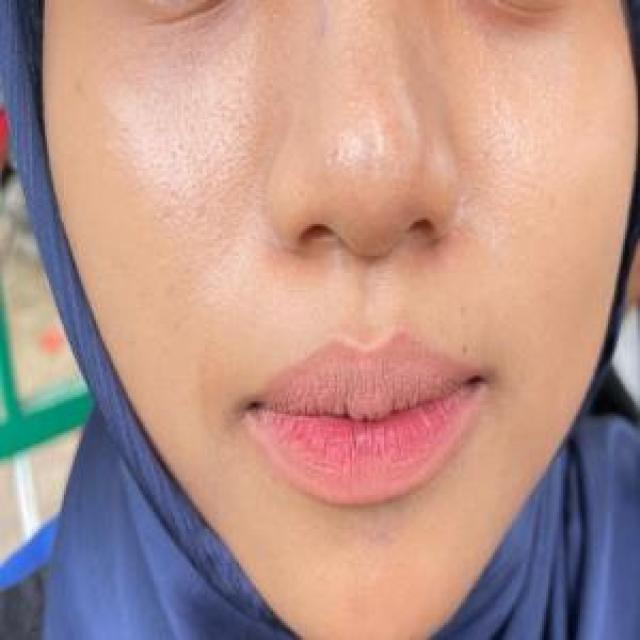Oily-Skin: (45, 36, 377, 335), (475, 38, 640, 364), (297, 0, 450, 250)
